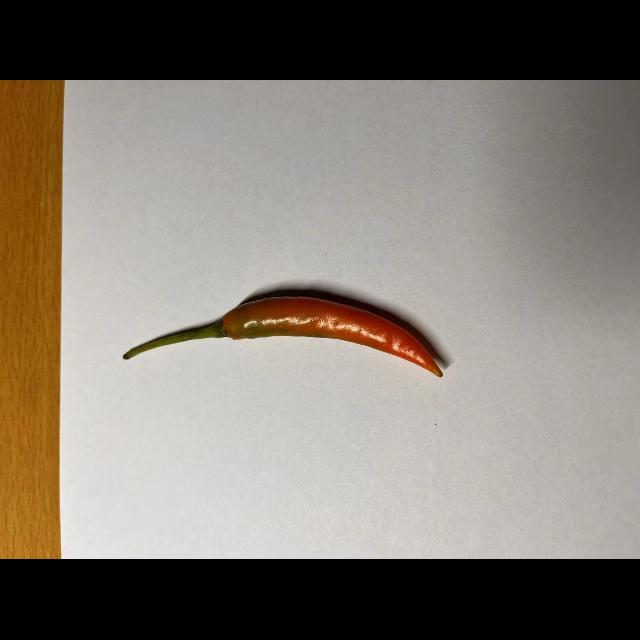chili_pepper: (119, 288, 449, 392)
